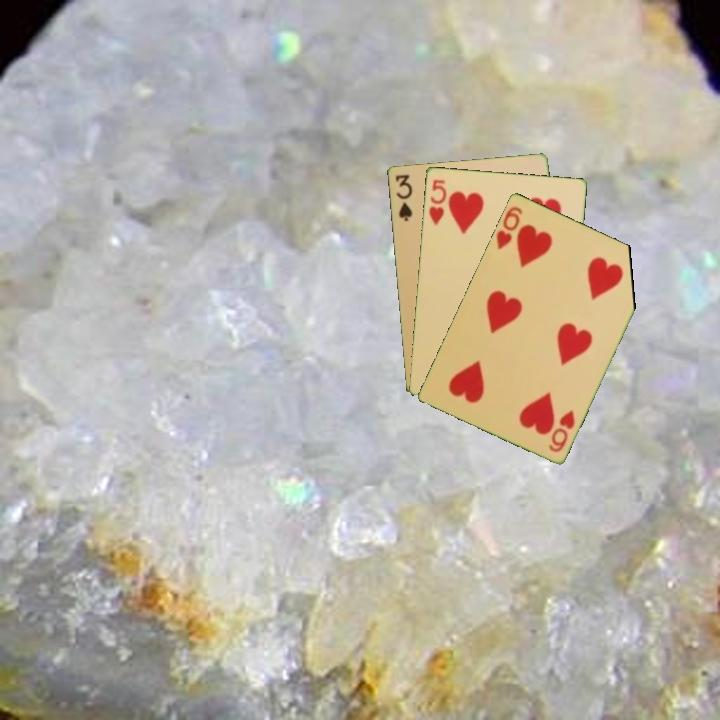3s: (391, 171, 415, 224)
5h: (425, 176, 449, 228)
6h: (492, 202, 525, 252), (545, 406, 578, 455)
